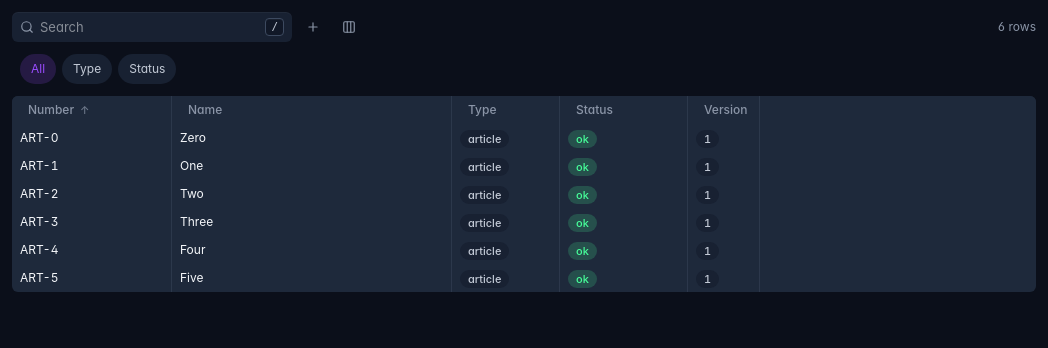
keyboard context menu › opens with Shift+F10 for the focused header column, not the active cell
Expected: the number of rows with test id "object-row" is 6, x1=12 y1=124 x2=760 y2=152; x1=12 y1=152 x2=760 y2=180; x1=12 y1=180 x2=760 y2=208; x1=12 y1=208 x2=760 y2=236; x1=12 y1=236 x2=760 y2=264; x1=12 y1=264 x2=760 y2=292
Click the text "Two".
click(312, 194)  # box x1=172 y1=180 x2=452 y2=208
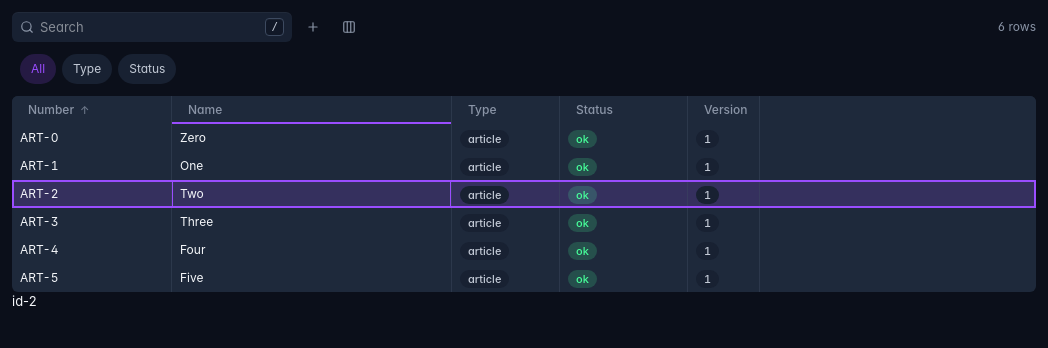
Expected: the text with test id "detail" reads "id-2", x1=12 y1=293 x2=37 y2=309
Click the element with test id "col-type".
click(506, 110)  # box x1=452 y1=96 x2=560 y2=124
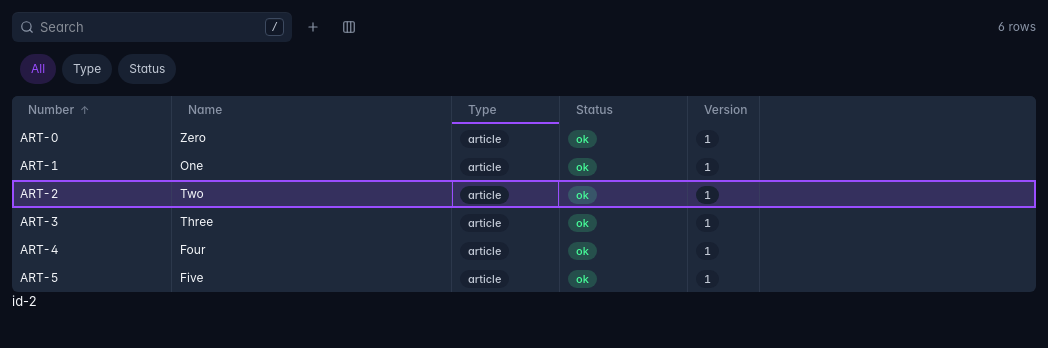
Click the text "Two".
click(312, 194)  # box x1=172 y1=180 x2=452 y2=208
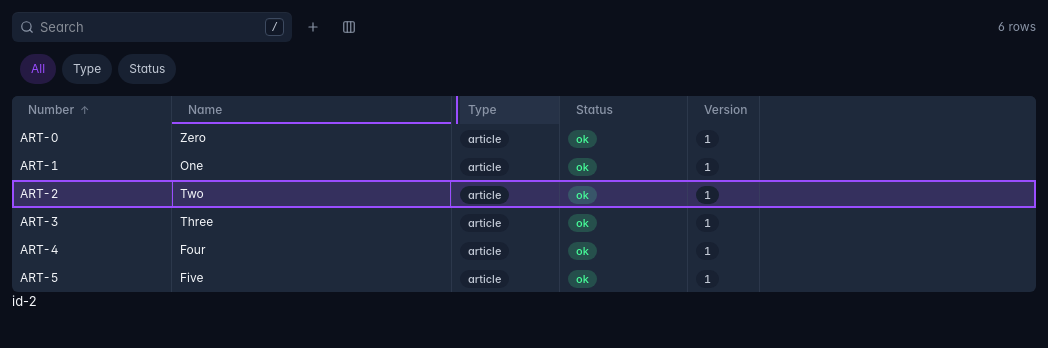
Press F10 in the 2nd button "Type", box x1=460 y1=96 x2=559 y2=124
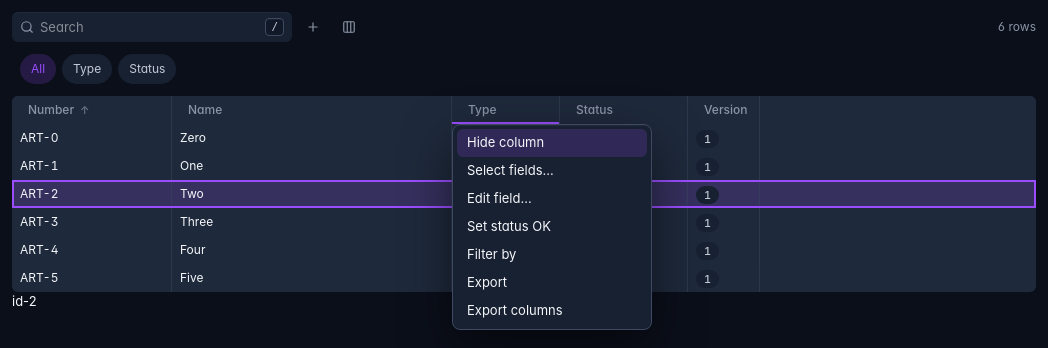
Expected: the menu item "Hide column" is shown, x1=457 y1=129 x2=647 y2=157
